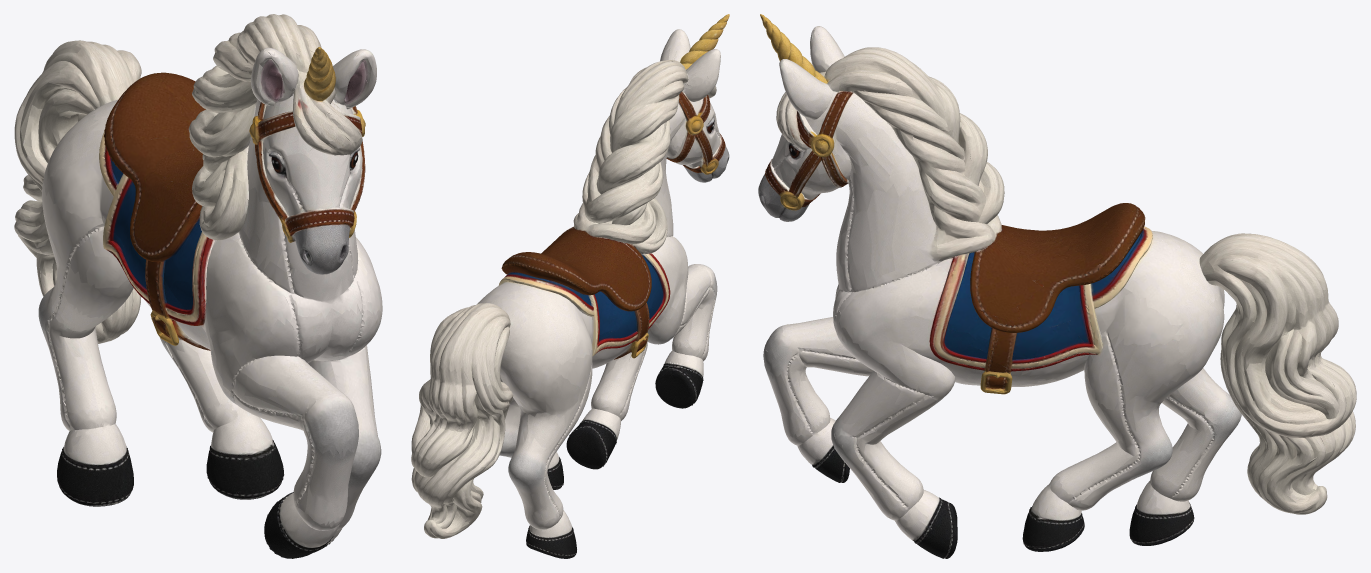
Rendered from unicorn.glb.
3 views of the same model, side by side, from view 1: azimuth 30°, elevation 25°; view 2: azimuth 150°, elevation 25°; view 3: azimuth 270°, elevation 25° (orthographic). The views are drawn at different scales.
Size of the model in its own units: 0.5281 by 1.82 by 1.9.
Materials: 1 (1 with a texture image).
